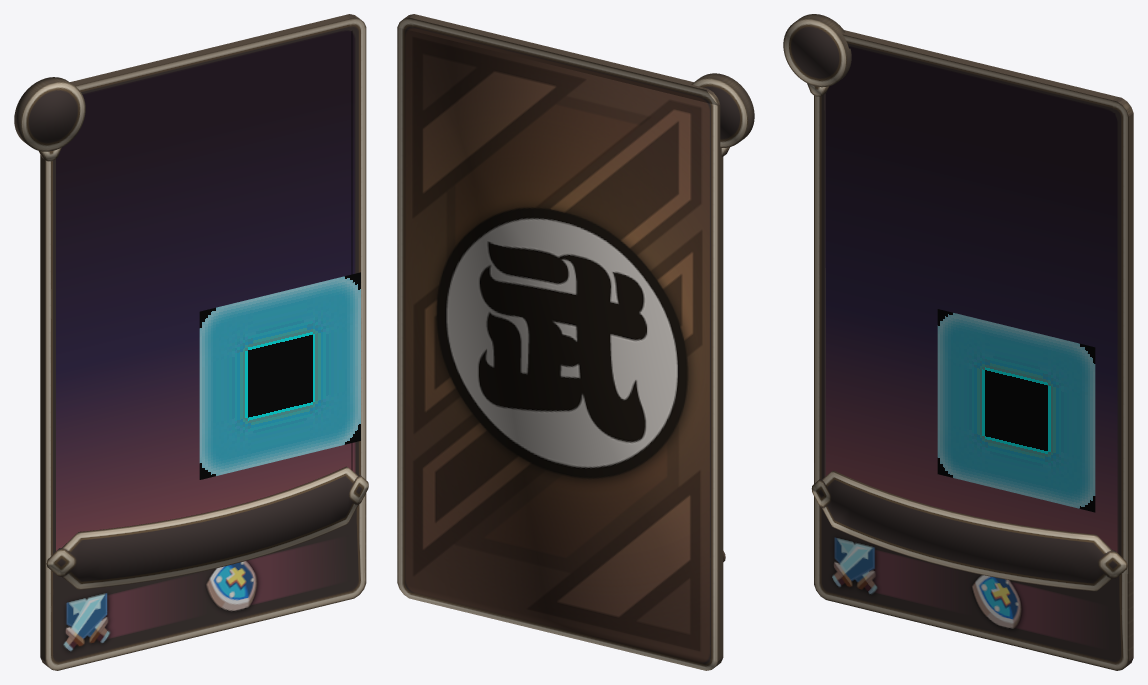
File: kapai.FBX
3 views of the same model, side by side, from view 1: azimuth 30°, elevation 25°; view 2: azimuth 150°, elevation 25°; view 3: azimuth 330°, elevation 25° (orthographic).
Visible parts, largest first — view 1: pPlane1, polySurface6, pPlane2; view 2: polySurface6; view 3: pPlane1, polySurface6, pPlane2.
Boxes of the visible parts, <box> form: pPlane1: <box>56,31,351,550</box>; polySurface6: <box>14,14,368,670</box>; pPlane2: <box>199,272,360,479</box>; polySurface6: <box>397,14,754,670</box>; pPlane1: <box>825,49,1115,550</box>; polySurface6: <box>783,14,1133,670</box>; pPlane2: <box>937,309,1095,512</box>.
Size of the model in its own units: 326 by 527 by 39.68.
